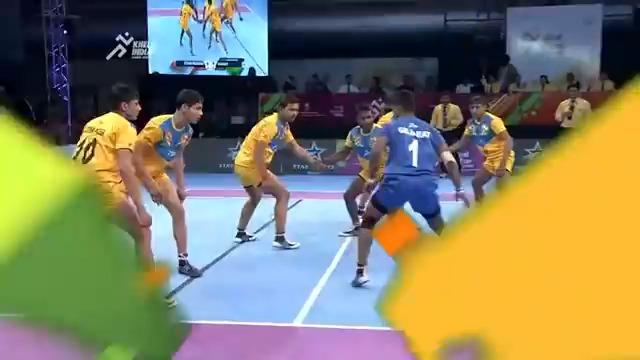Player: (71, 81, 177, 308), (231, 93, 334, 249), (131, 87, 204, 278), (319, 103, 387, 237), (446, 93, 515, 206), (429, 92, 464, 178), (553, 83, 592, 138), (202, 0, 228, 55), (177, 0, 202, 56), (219, 0, 243, 35)
Raider: (350, 88, 469, 287)
referee: (494, 53, 520, 95)
